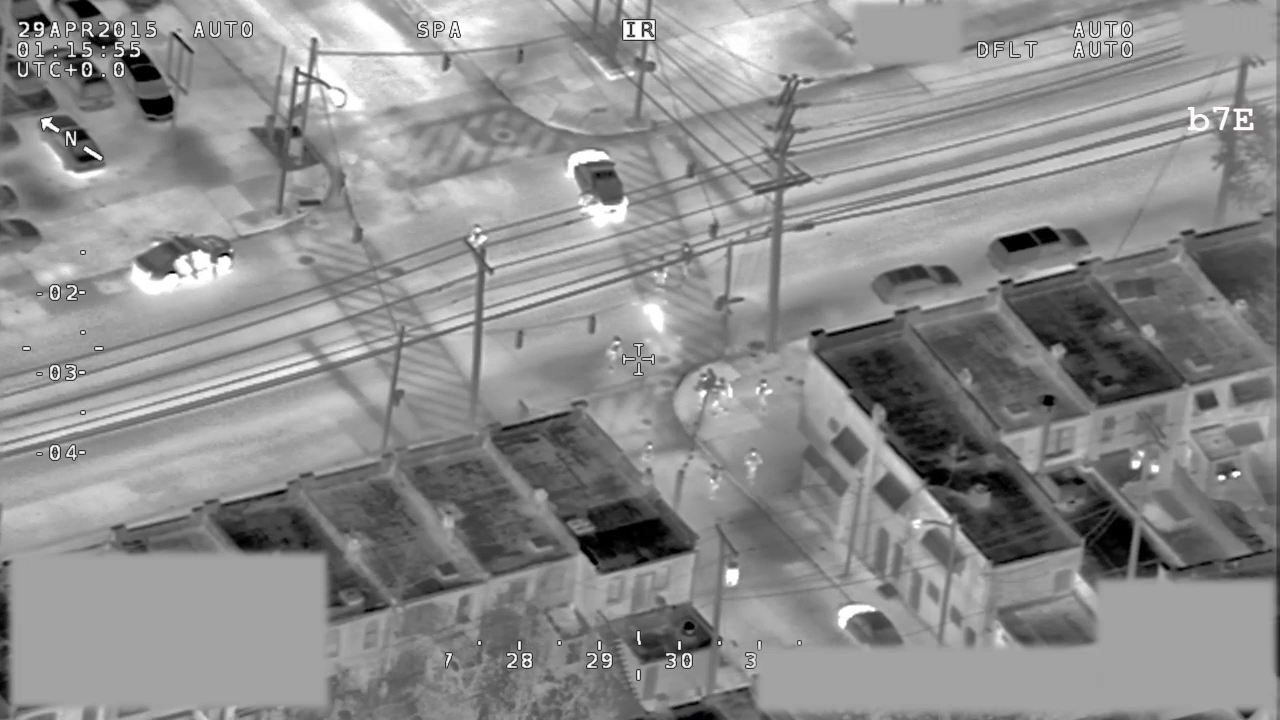vehicle: (128, 227, 238, 301), (982, 222, 1093, 284), (562, 146, 634, 227), (110, 44, 179, 126), (38, 109, 111, 181), (870, 258, 968, 309), (47, 45, 115, 117), (53, 1, 123, 53), (1, 52, 60, 112), (827, 601, 907, 645), (5, 1, 61, 52), (1, 216, 40, 262)
